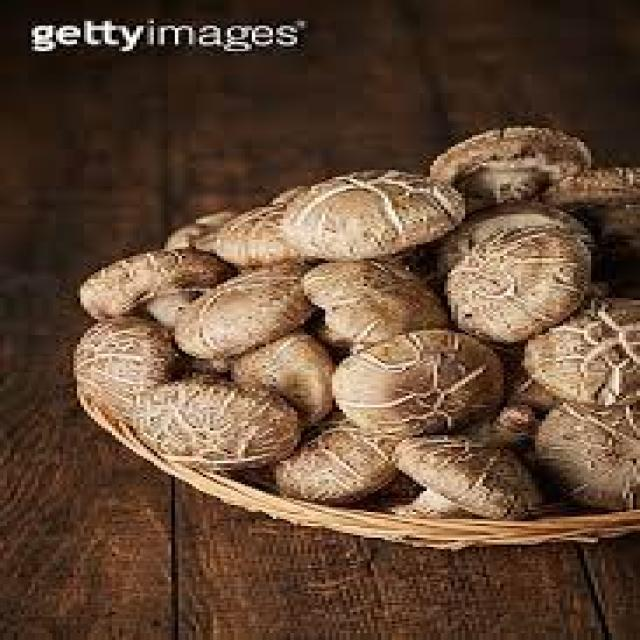Mushroom: (112, 375, 308, 479), (324, 321, 502, 431), (272, 165, 468, 258), (70, 247, 217, 328)
